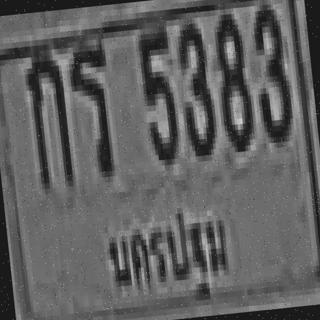A01: (20, 40, 72, 187)
A35: (65, 36, 116, 177)
N03: (248, 0, 292, 144), (173, 14, 216, 154)
N05: (135, 21, 178, 161)
N08: (209, 7, 253, 148)
P28: (98, 193, 236, 313)
